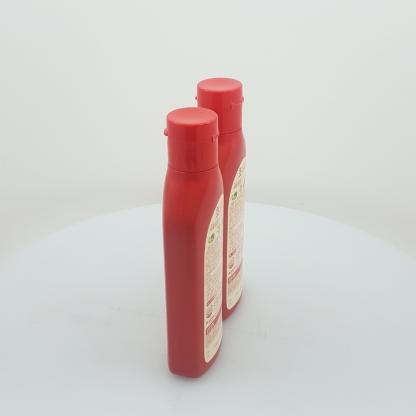---------: (162, 107, 224, 378), (194, 77, 246, 321)
